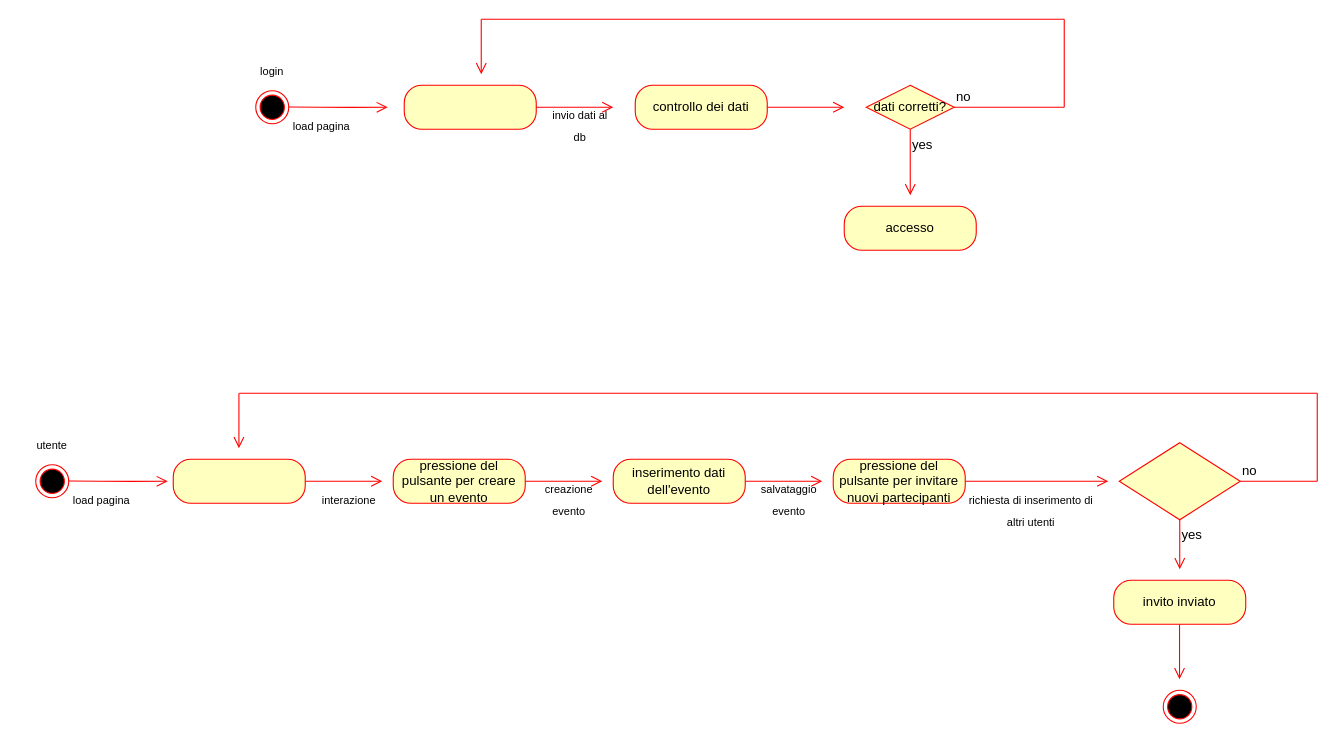
Image size: 1338x743. Some labels were removed from this diagram. Here are the shapes that lost their labels. From the top down, the box of each, then its label:
(403, 84, 536, 129): inserimento dati di accesso
(172, 458, 305, 503): pagina principale
(1118, 442, 1240, 520): invitare nuovi utenti?
